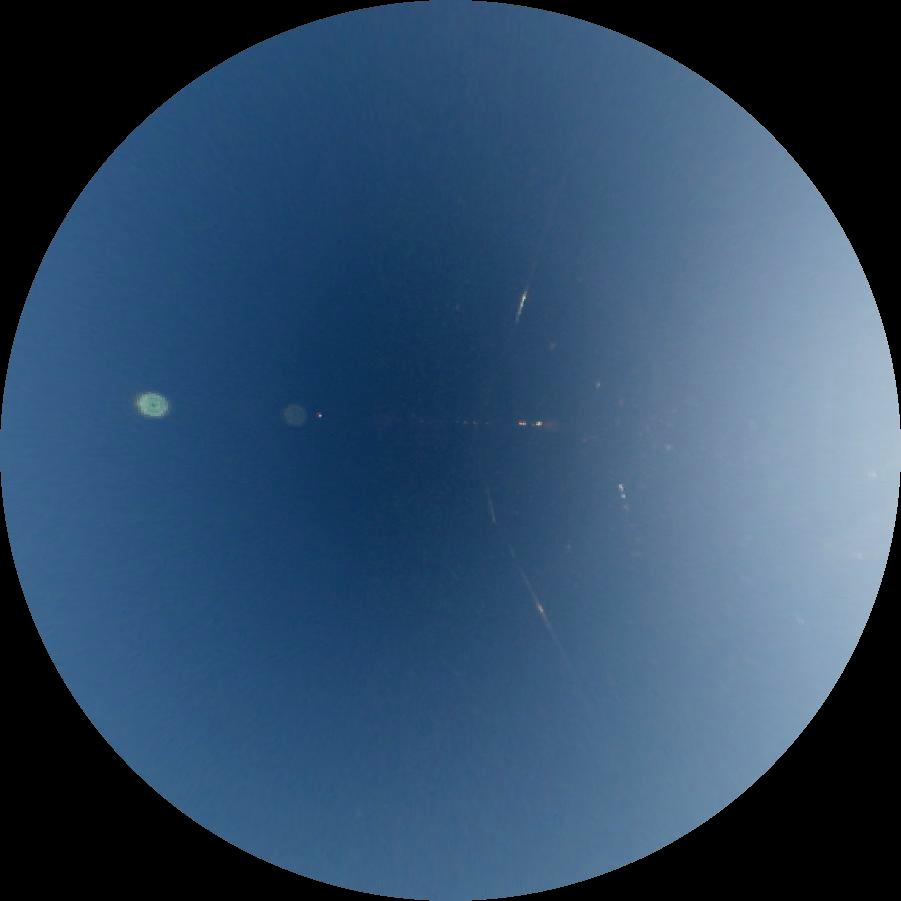contrail young: (782, 606, 808, 627)
parasite: (496, 155, 571, 374), (496, 522, 569, 667), (480, 482, 498, 523)
